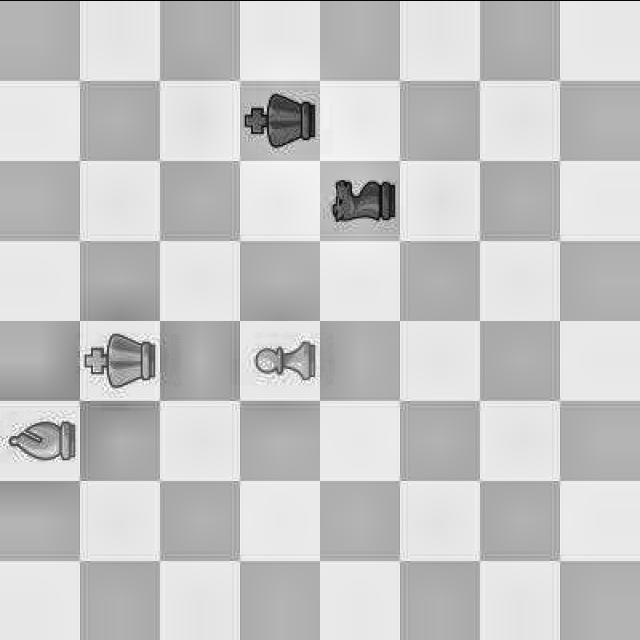Black Knight: (328, 166, 400, 238)
black king: (243, 88, 319, 160)
white bishop: (0, 402, 80, 480)
white king: (78, 318, 160, 400)
white pawn: (238, 322, 318, 396)
